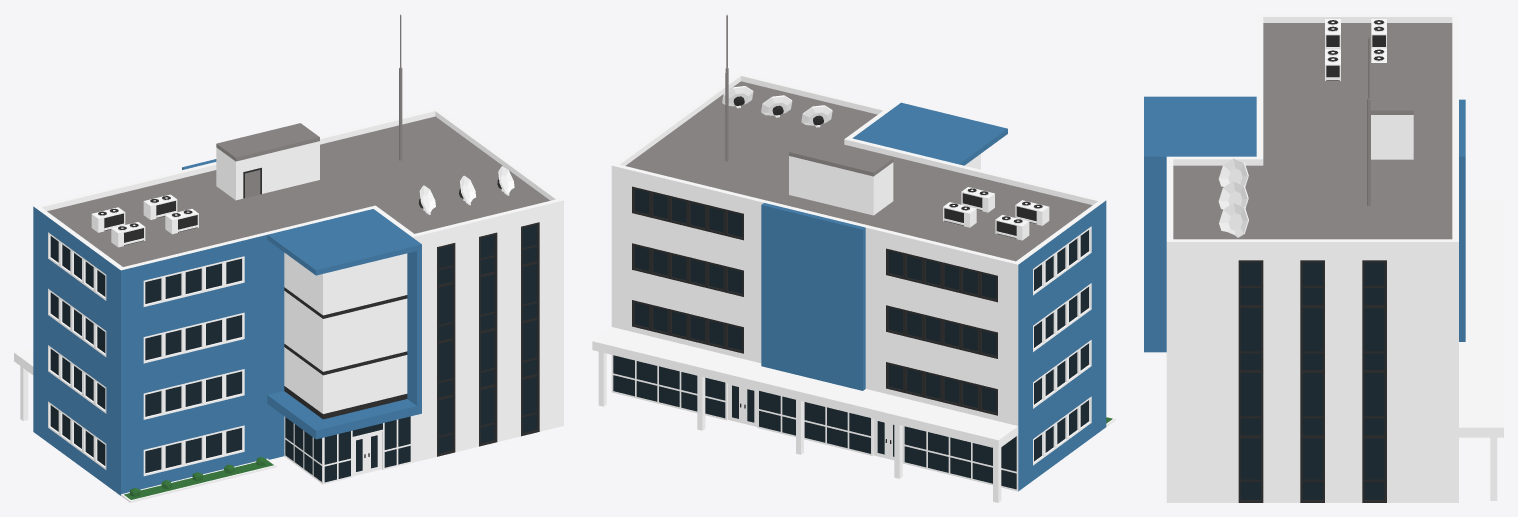
The model's file is data-center.glb.
The picture shows the model from 3 angles, left to right: view 1: azimuth 30°, elevation 25°; view 2: azimuth 150°, elevation 25°; view 3: azimuth 270°, elevation 25°; orthographic projection. The views are drawn at different scales.
Parts seen in each view (by area): view 1: data-center; view 2: data-center; view 3: data-center.
Part boxes in pixels (x1=…): data-center: x1=14, y1=14, x2=563, y2=502; data-center: x1=592, y1=14, x2=1115, y2=502; data-center: x1=1144, y1=14, x2=1503, y2=502.
Size of the model in its own units: 24 by 20.79 by 16.
1 material, 1 textured.
